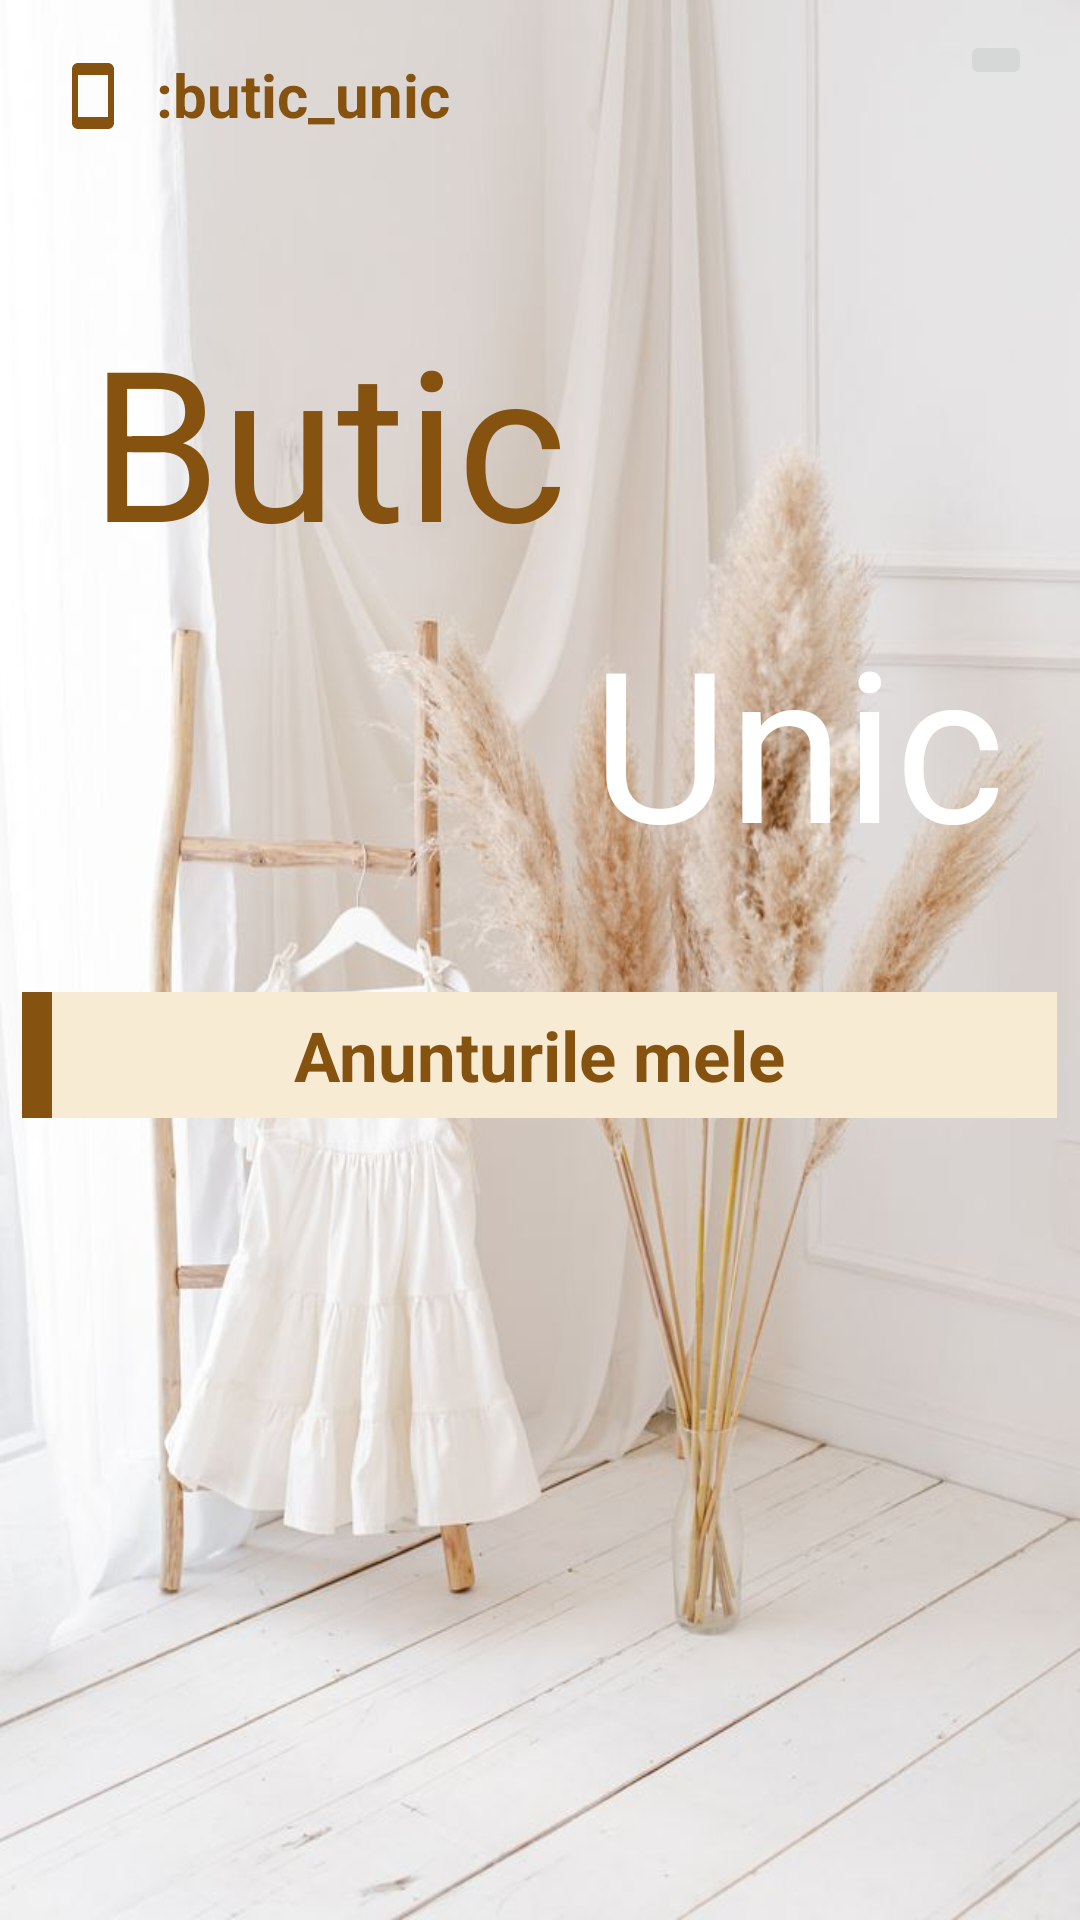

Screen size 1080*1920. Icon name, then its center in pixels as [x,y]:
smartphone: [93,96]
